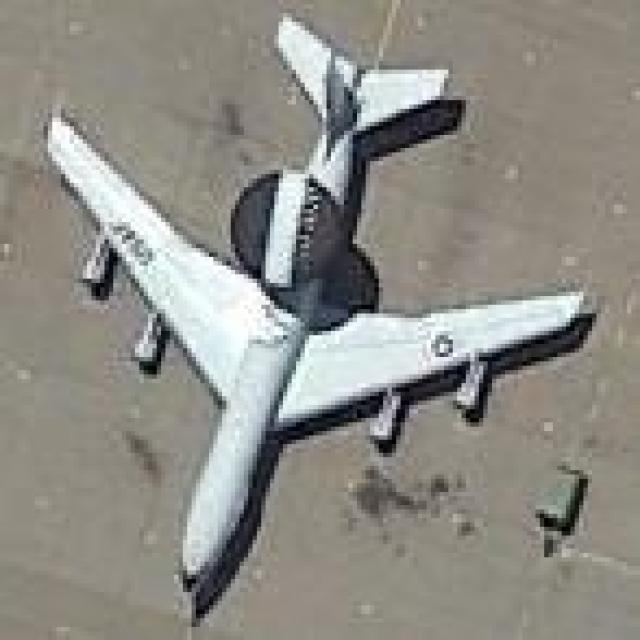E-3_TopDown: (35, 9, 601, 622)
